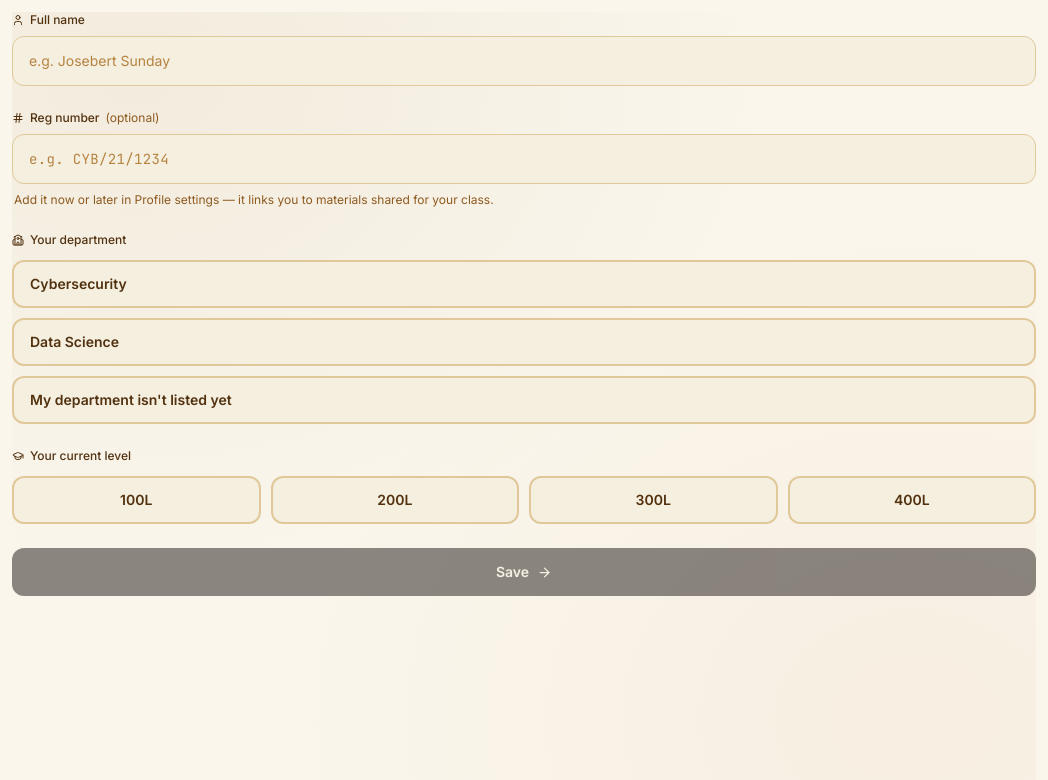
Scenario: ProfileForm — optional reg number › does not submit and shows an error for an invalid non-empty reg number
Type "Ada Obi" into the field labelled "Full name". click: (524, 61)
box: left=12, top=36, right=1036, bottom=86
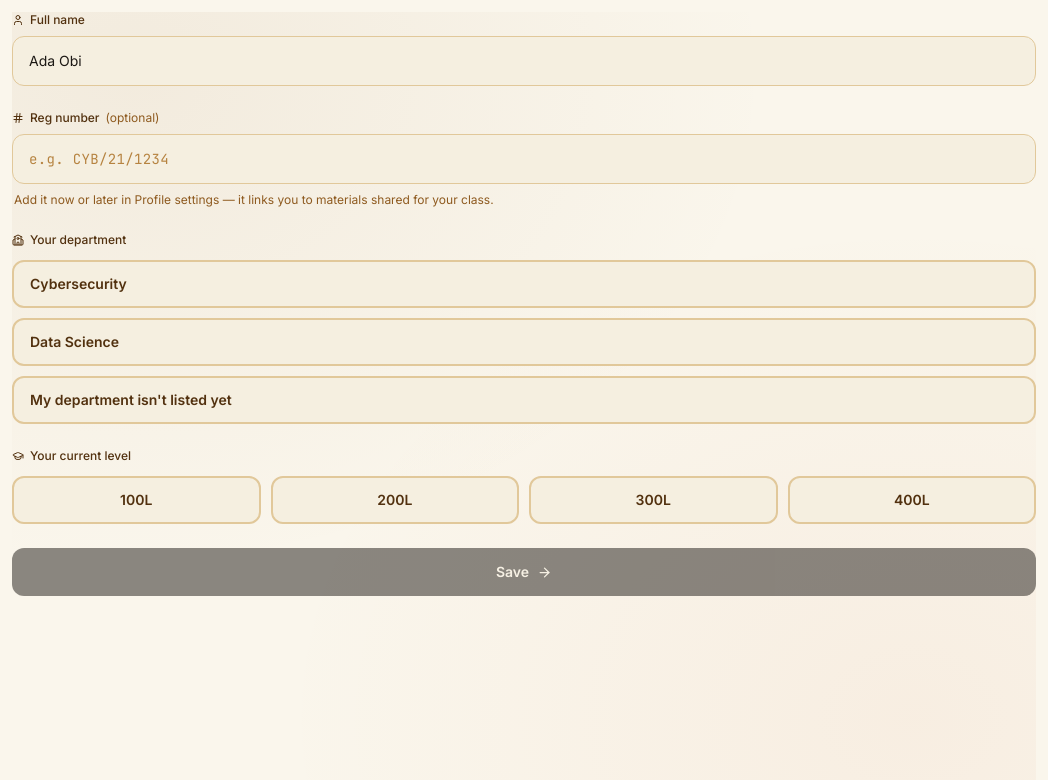
Type "abcd" into the field labelled "Reg number (optional)". click: (524, 159)
box: left=12, top=134, right=1036, bottom=184
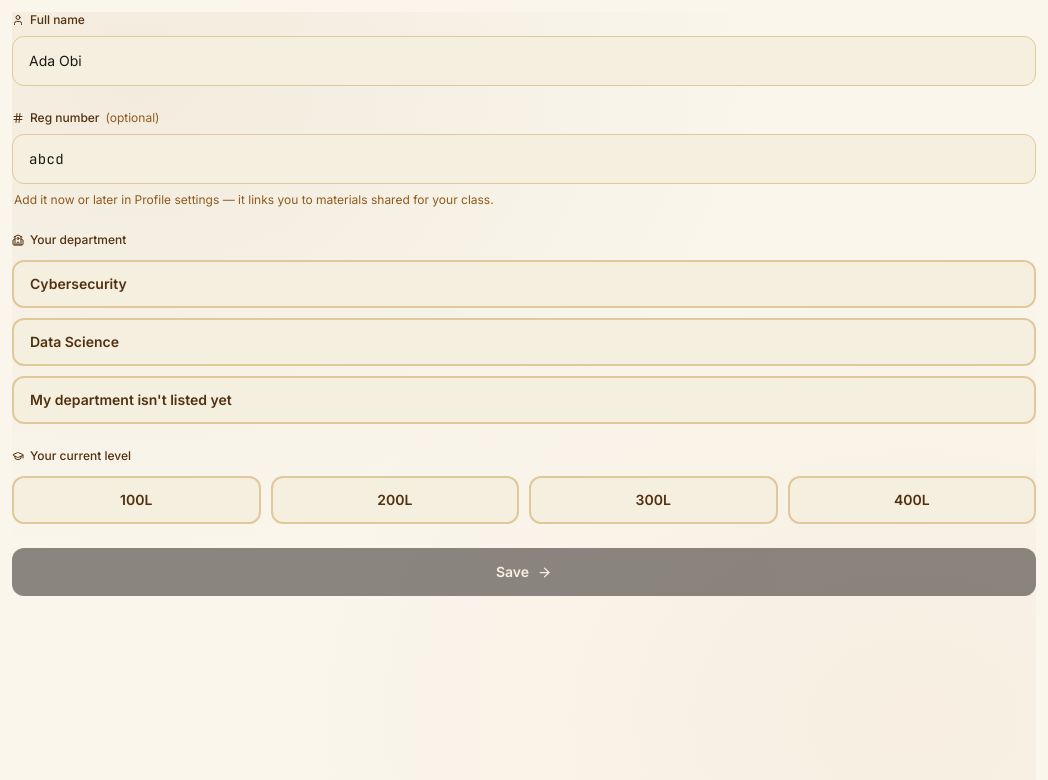
Click the button "Cybersecurity". click: (78, 284)
box: left=12, top=260, right=1036, bottom=308
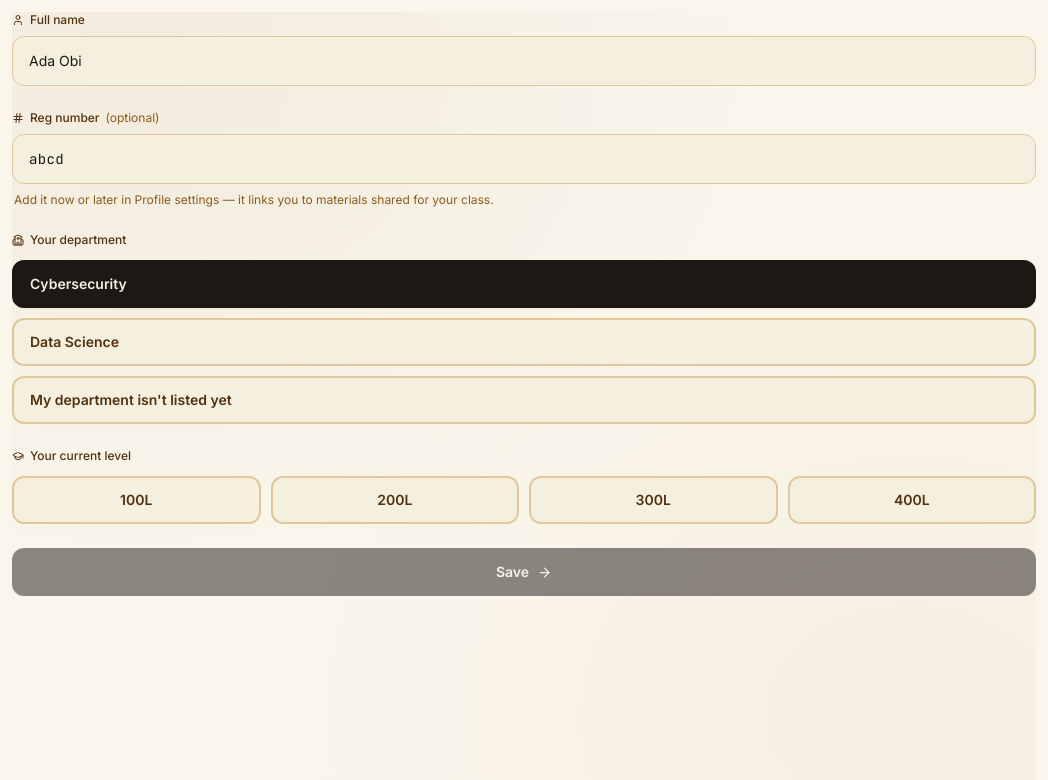
Click the button "100L". click: (136, 500)
box: left=12, top=476, right=260, bottom=524
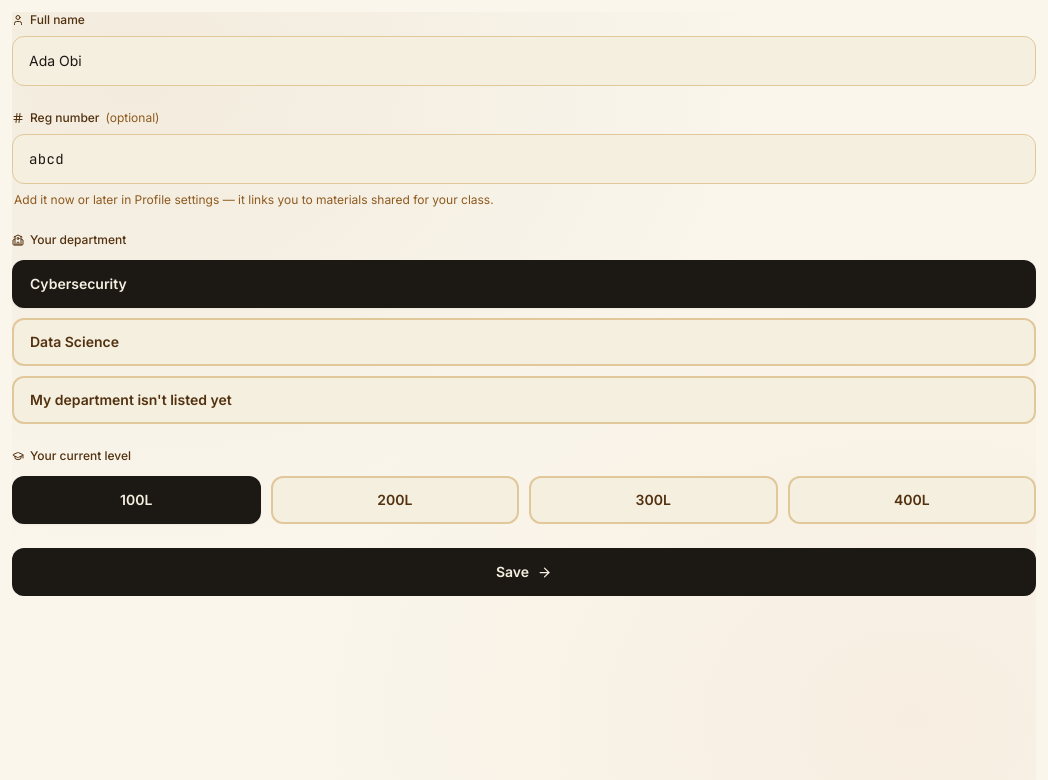
Click the button "Save". click: (524, 572)
box: left=12, top=548, right=1036, bottom=596
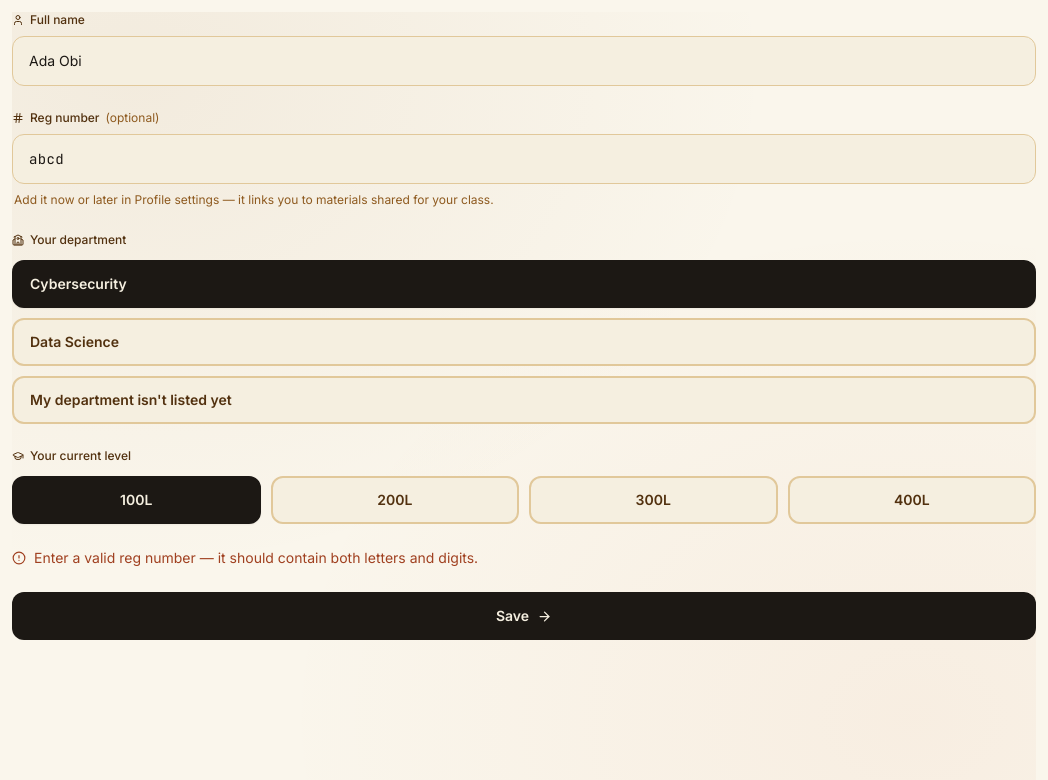
Result: the message reads "Enter a valid reg number — it should contain both letters and digits." at left=34, top=549, right=478, bottom=566
